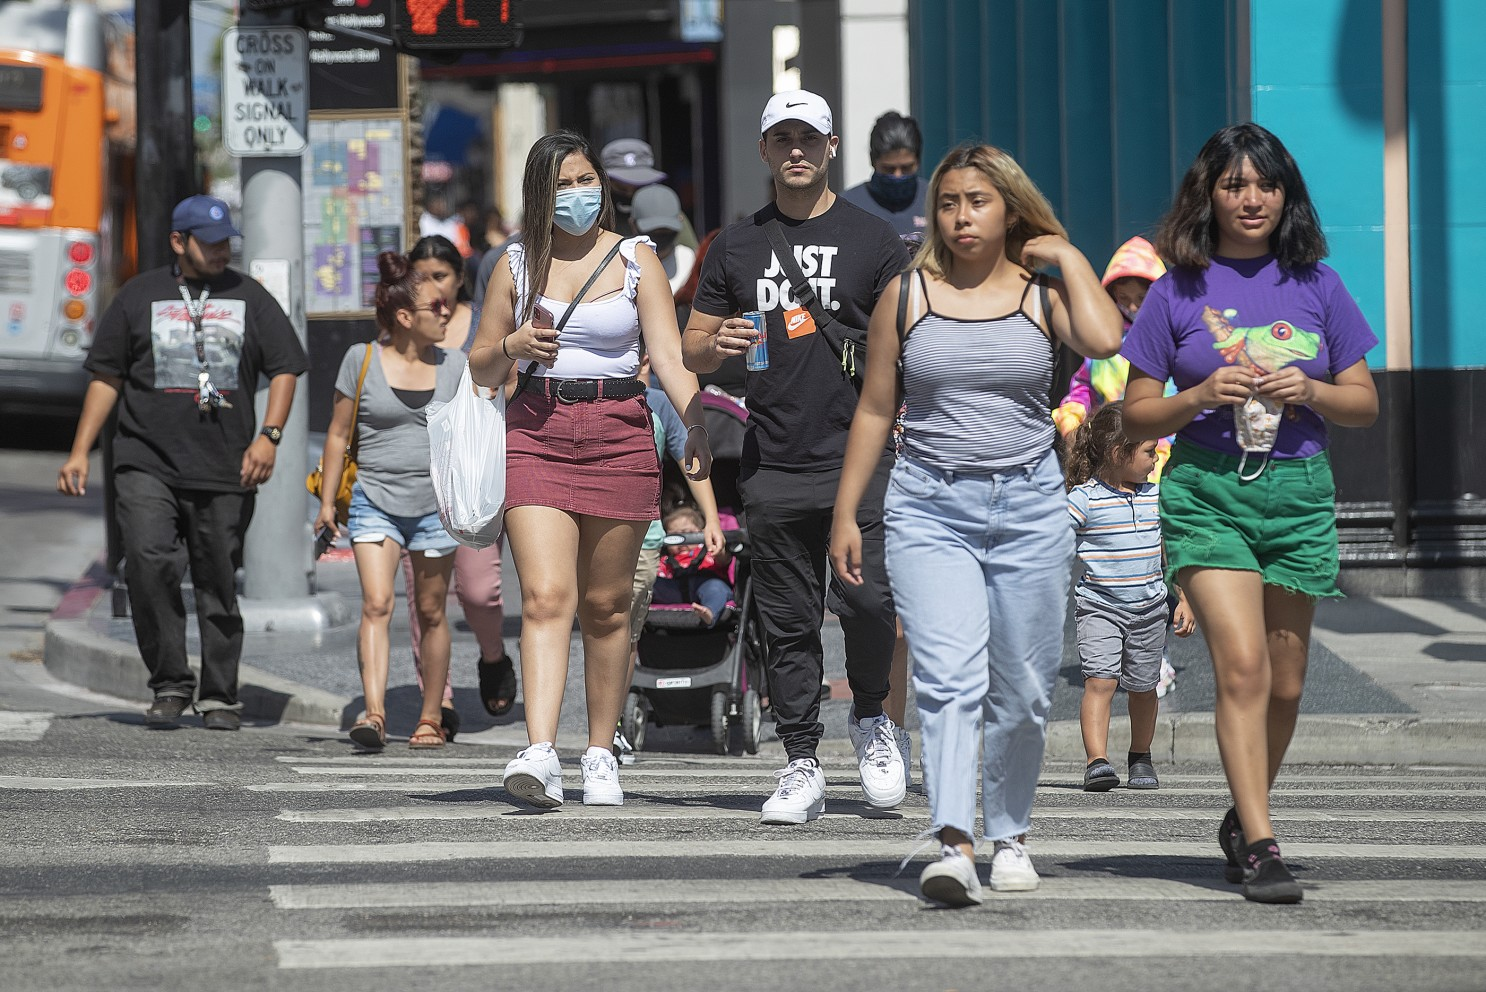with_mask: (546, 162, 604, 235)
without_mask: (933, 185, 1006, 256), (1218, 164, 1282, 242), (770, 126, 821, 187), (413, 283, 456, 352)
